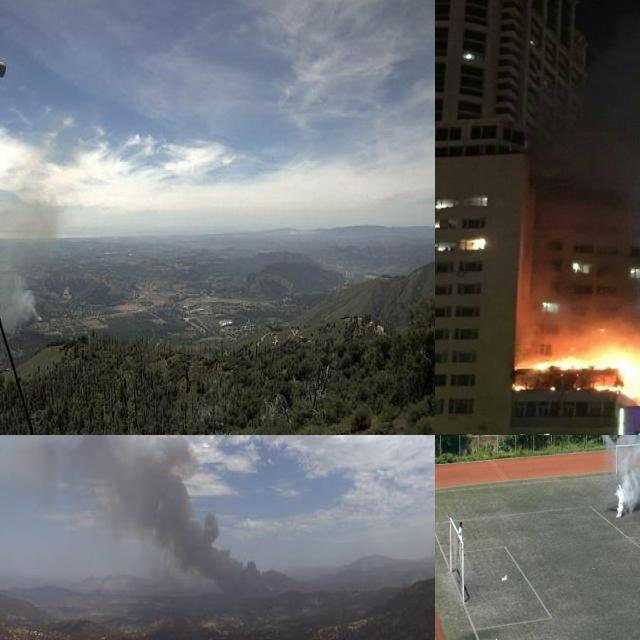fire: (515, 340, 640, 400)
smoke: (0, 435, 308, 616), (557, 0, 640, 358), (0, 148, 65, 328)
